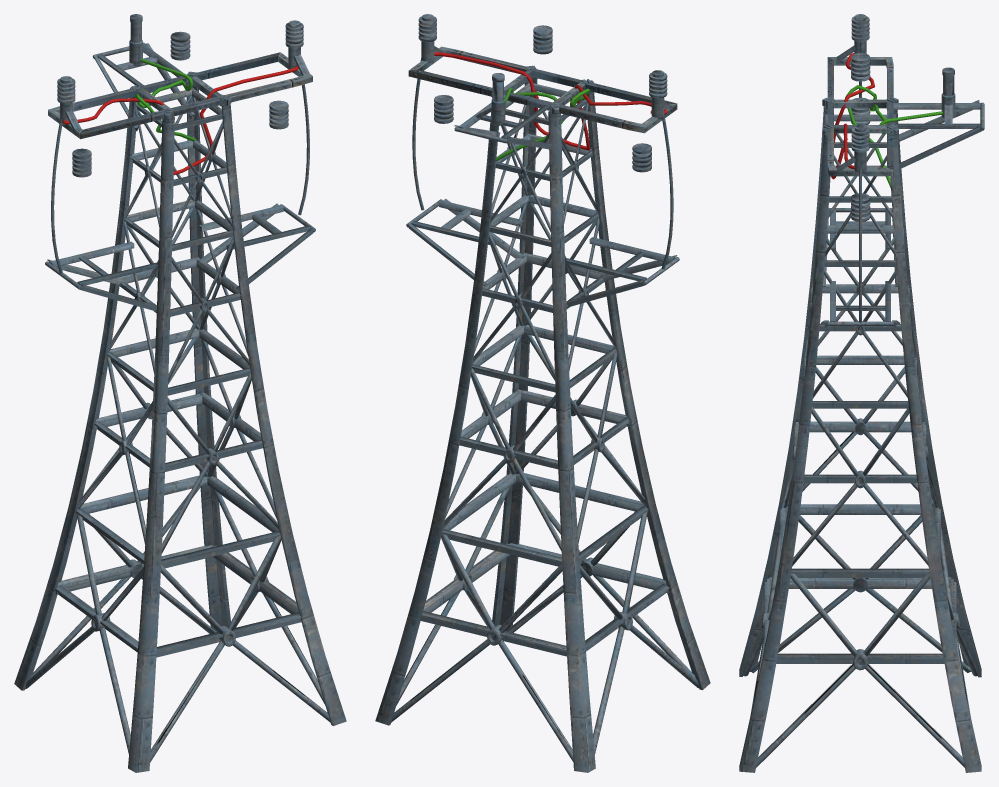
The model's file is big-electric-pole.glb.
3 views of the same model, side by side, from view 1: azimuth 30°, elevation 25°; view 2: azimuth 150°, elevation 25°; view 3: azimuth 270°, elevation 25° (orthographic).
Parts seen in each view (by area): view 1: body; view 2: body; view 3: body.
Part boxes in pixels (bbox=[...]): body: bbox=[14, 14, 346, 772]; body: bbox=[375, 14, 710, 772]; body: bbox=[739, 14, 984, 772].
Size of the model in its own units: 2.38 by 5.87 by 1.97.
Materials: 1 (1 with a texture image).
